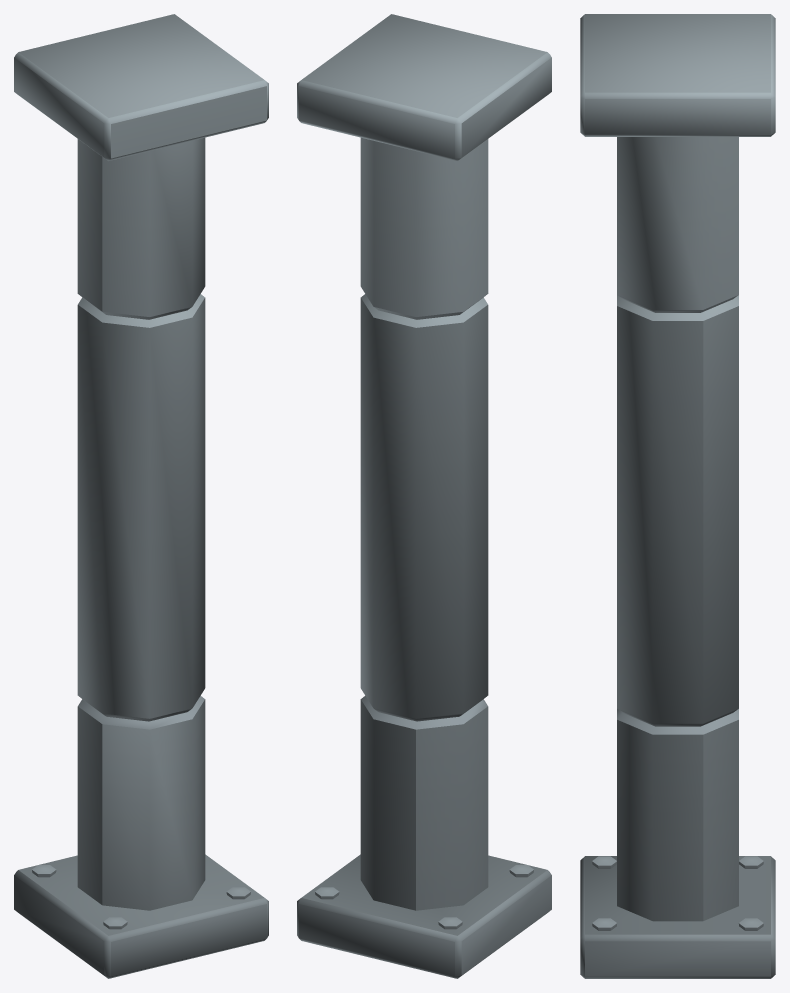
File: pillar_2x2x8.glb
The picture shows the model from 3 angles, left to right: view 1: azimuth 30°, elevation 25°; view 2: azimuth 150°, elevation 25°; view 3: azimuth 270°, elevation 25°; orthographic projection. The views are drawn at different scales.
Parts seen in each view (by area): view 1: pillar_2x2x8; view 2: pillar_2x2x8; view 3: pillar_2x2x8.
Boxes of the visible parts, left/top/right/bottom form: pillar_2x2x8: left=14, top=14, right=268, bottom=978; pillar_2x2x8: left=297, top=14, right=551, bottom=978; pillar_2x2x8: left=580, top=14, right=775, bottom=978.
Bounding box in the file's own units: 1.6 × 8 × 1.6.
1 material, 1 textured.
